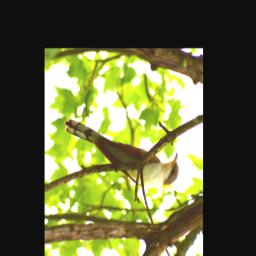Cuckoo: (63, 119, 180, 190)
